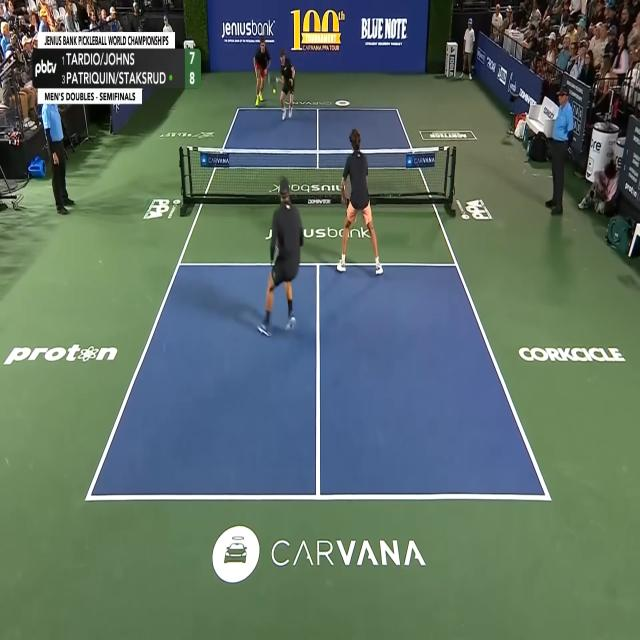ball: (272, 88, 276, 95)
